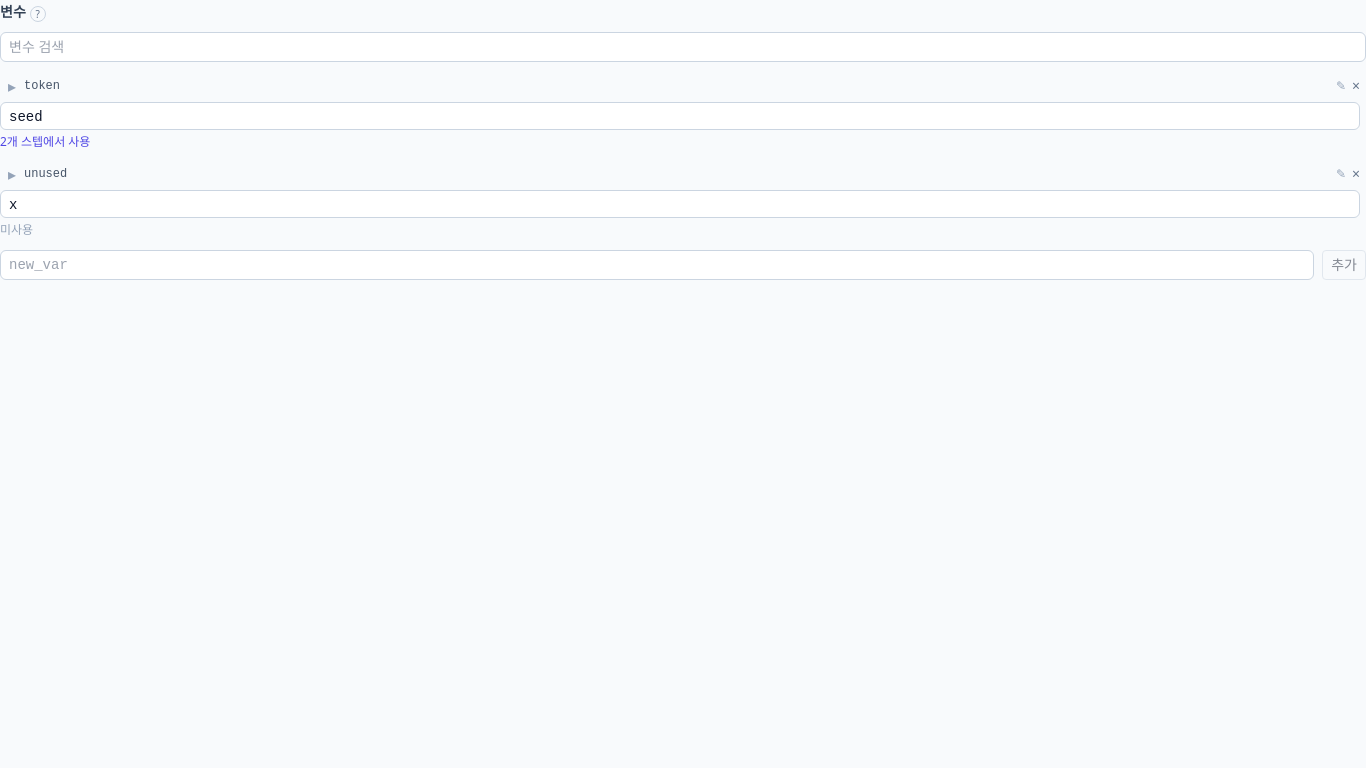
VariablesPanel — 사용중인 변수 삭제 확인 (var-delete-confirm T4, US1·US2·US3) › US1-c: [취소]와 ESC는 변수를 남긴다
The image size is (1366, 768).
Click the button "×" in the row of "token": (1356, 86) [1352,76,1360,96]
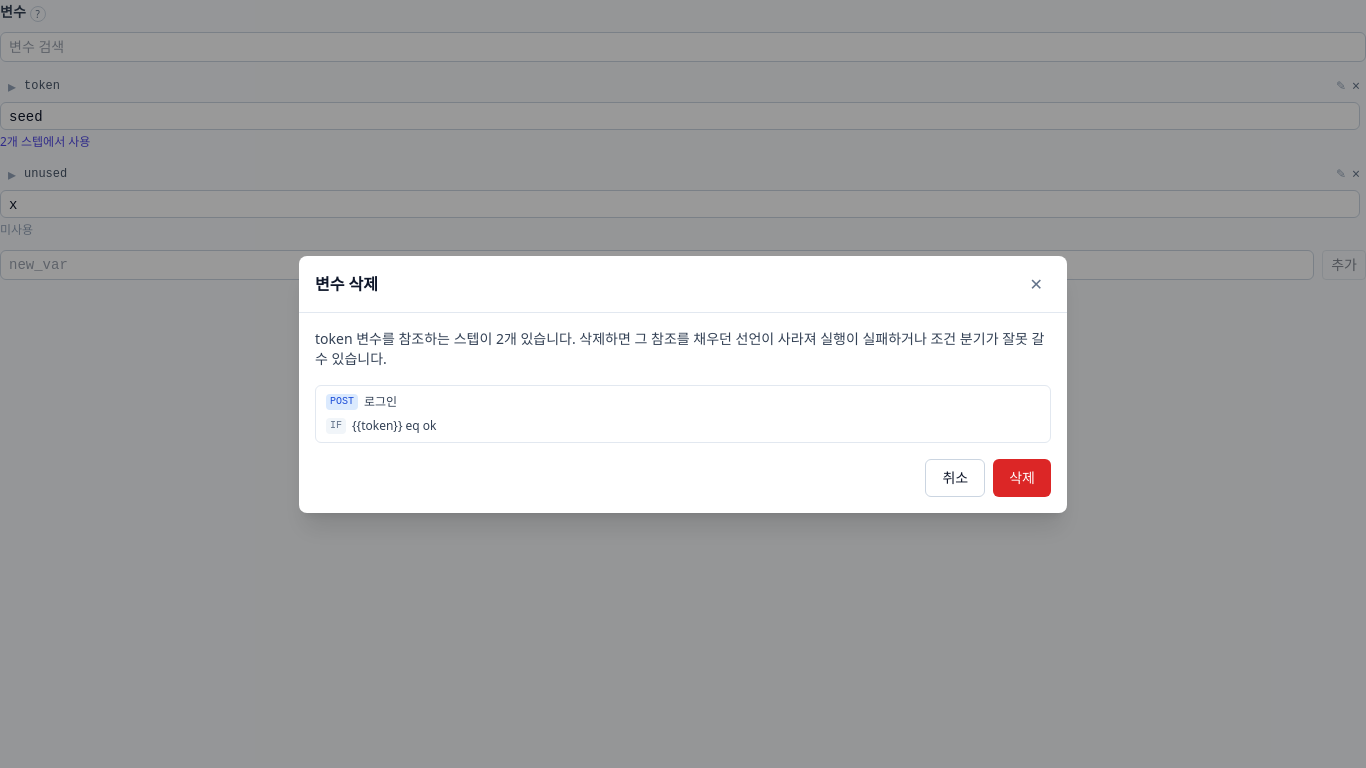
Click the button "취소": (955, 478) [926,458,985,496]
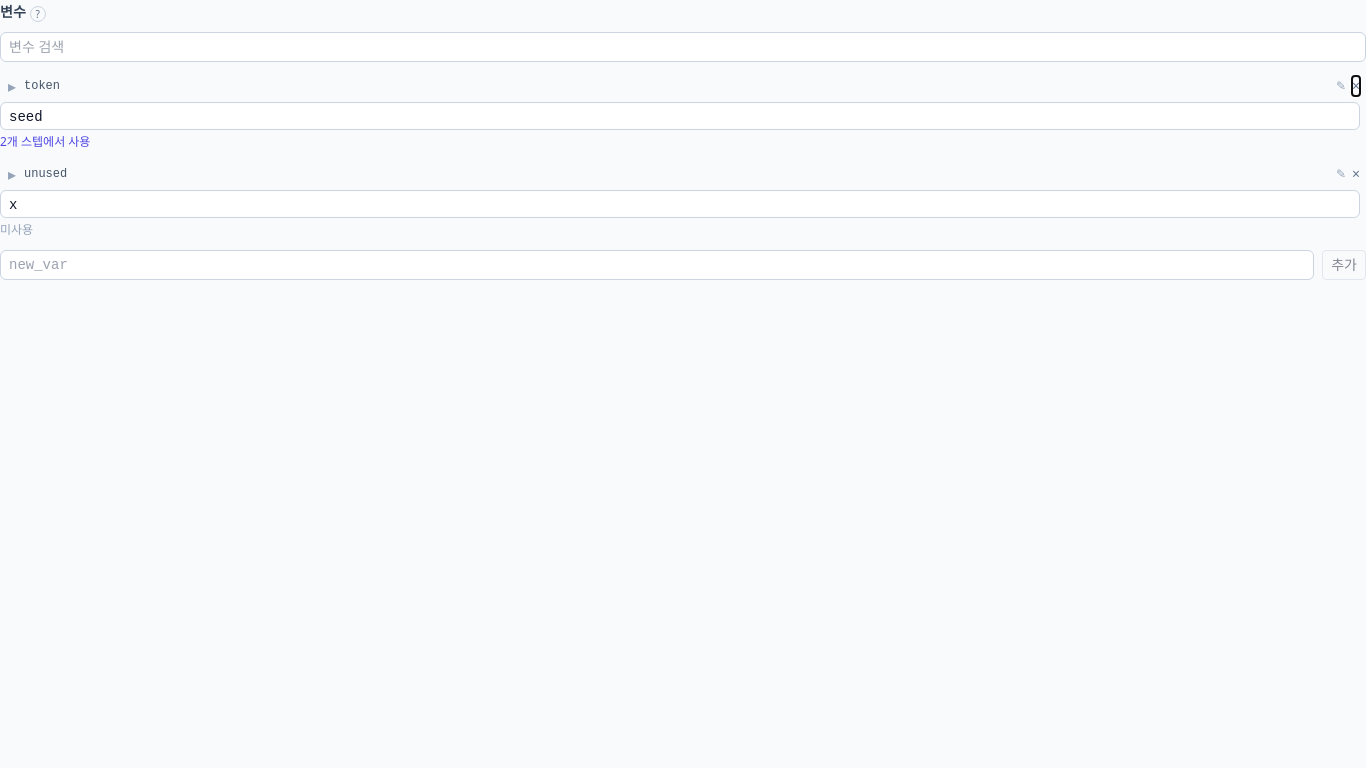
Check: the dialog is gone
Click the button "×" in the row of "token": (1356, 86) [1352,76,1360,96]
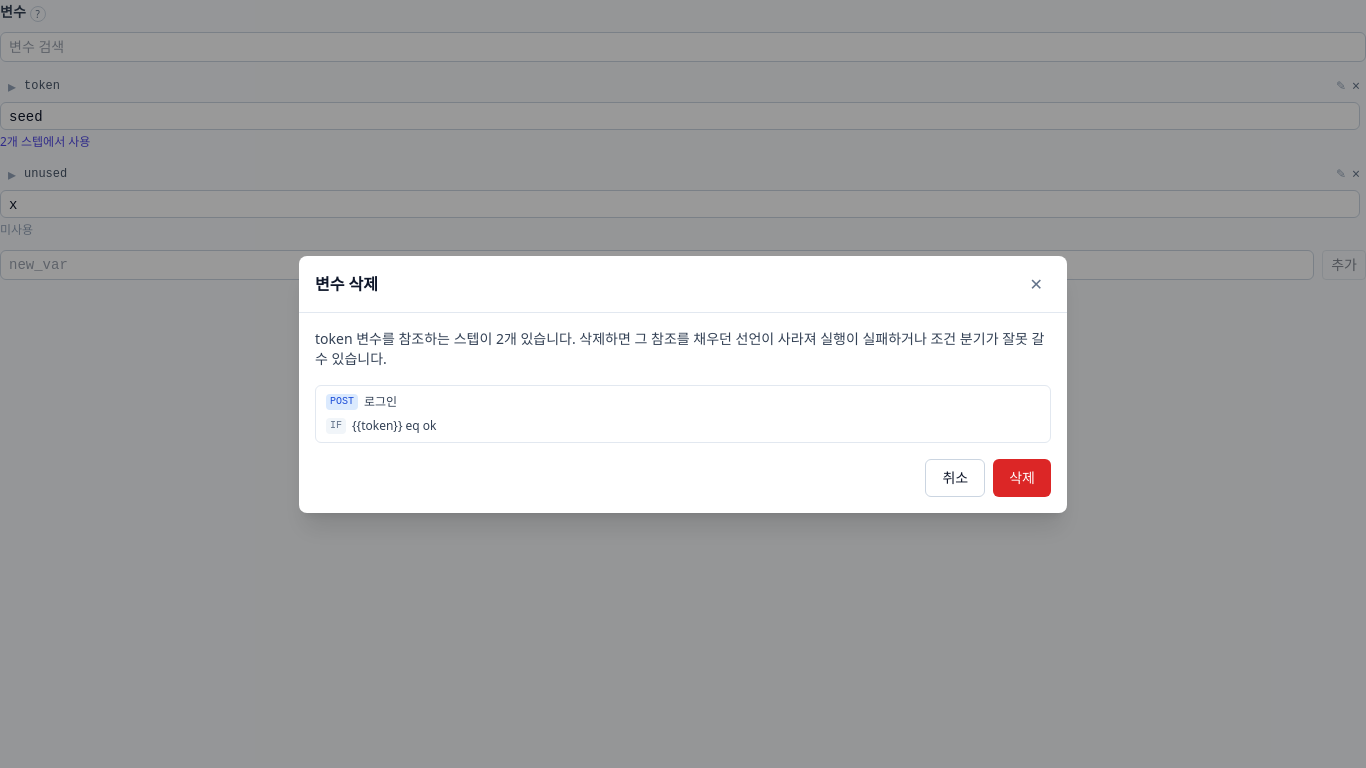
Press Escape
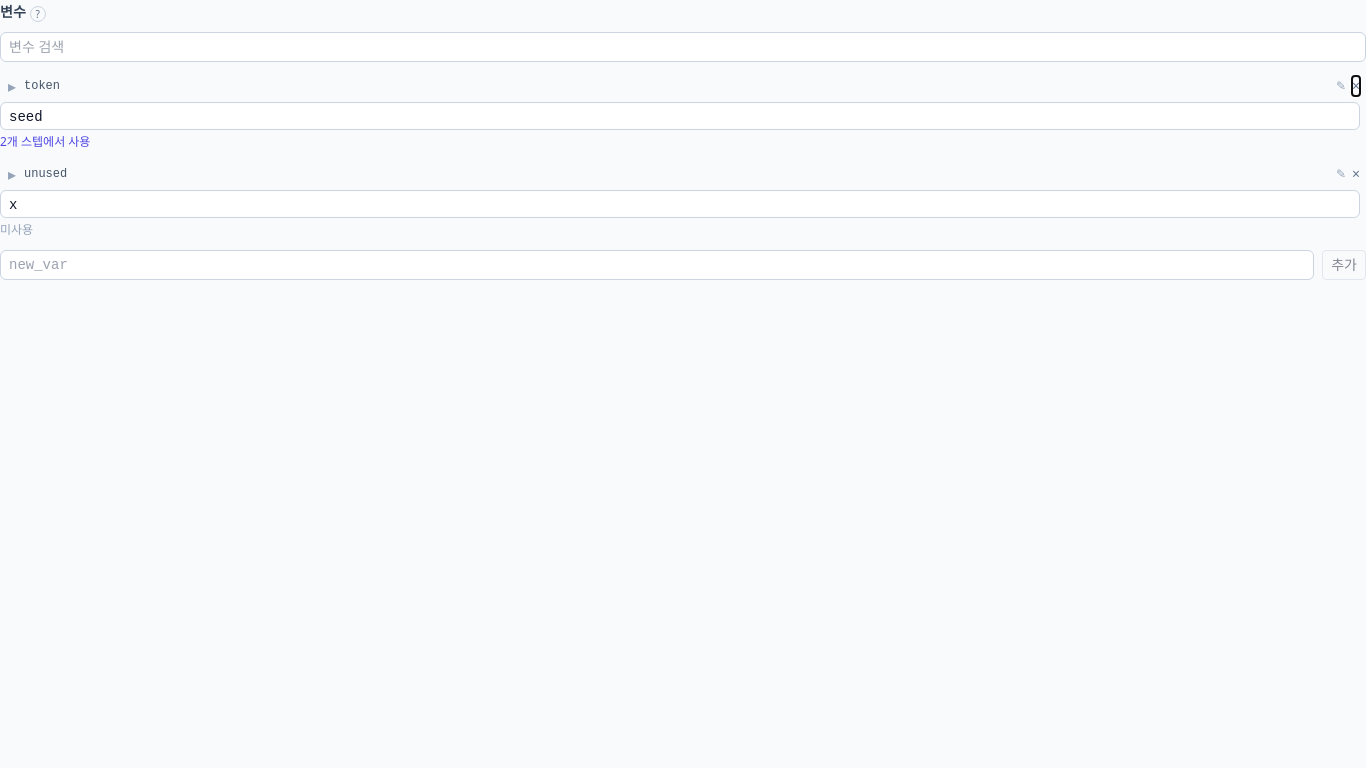
Check: the dialog is gone
